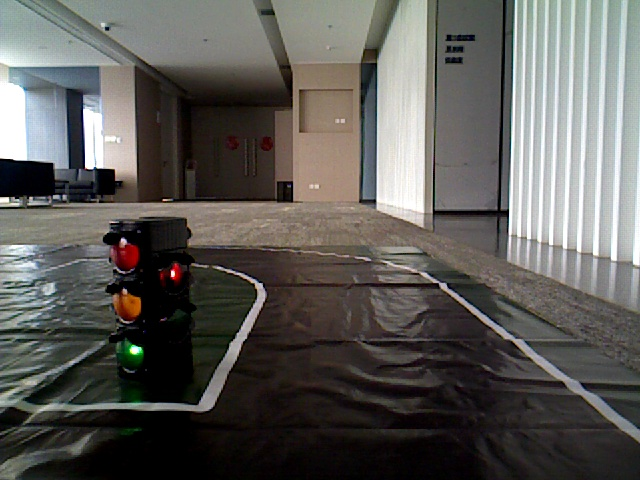green: (111, 227, 160, 366)
